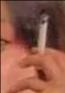Cigarette: (38, 14, 48, 56)
